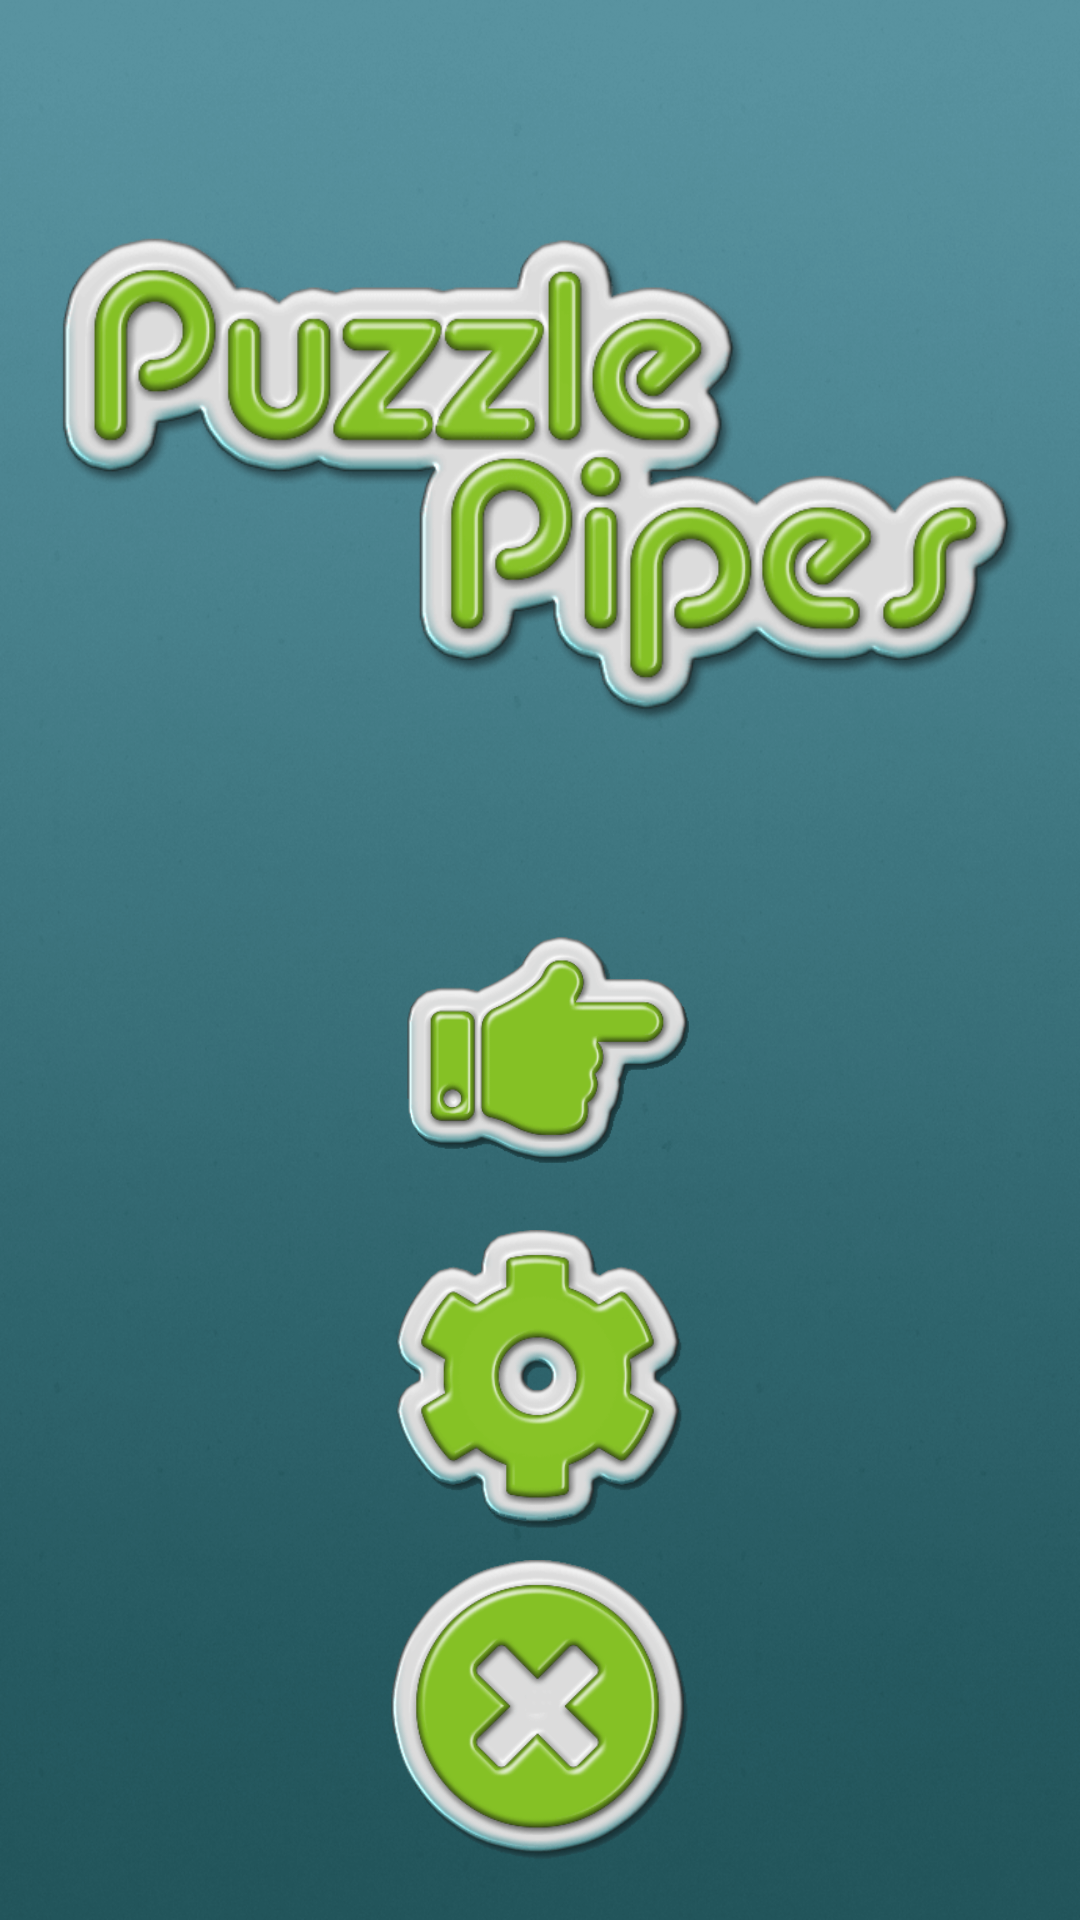

Named icons in this screenshot (1080px x 1920px) and their centers, [x,y]:
exit: [538,1707]
play: [548,1050]
settings: [539,1378]
